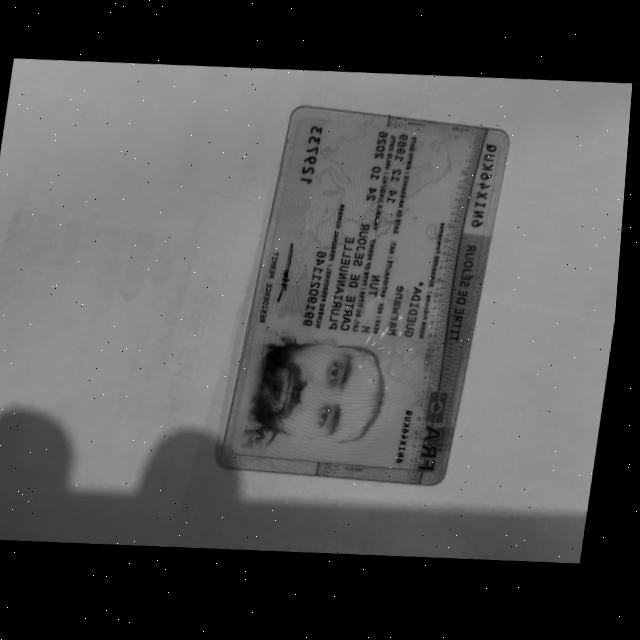card: (221, 107, 507, 483)
